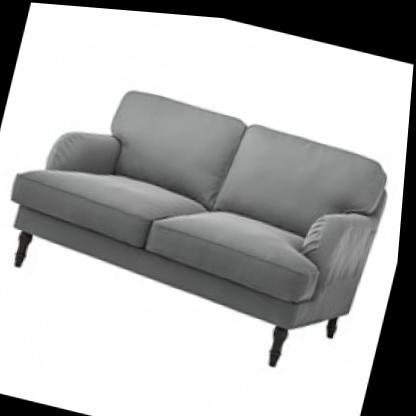Sofa: (0, 33, 414, 394)
